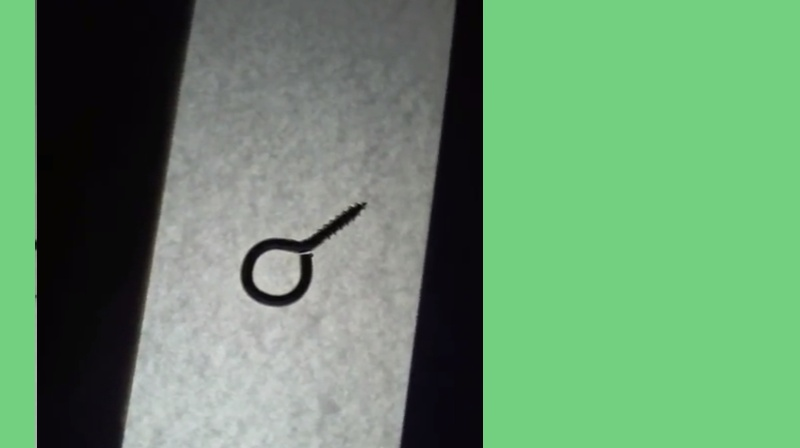O001: (236, 199, 371, 310)
